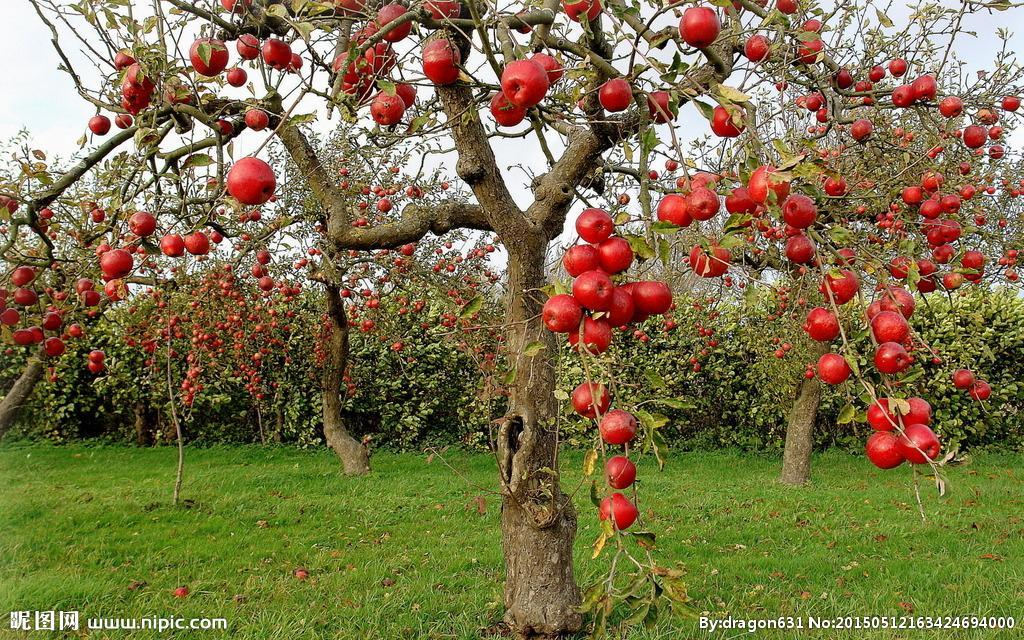apple: (224, 155, 276, 205), (501, 59, 549, 107), (117, 60, 155, 114), (420, 37, 462, 85), (678, 6, 721, 46), (747, 165, 789, 203), (566, 316, 610, 352), (575, 269, 614, 309), (543, 294, 582, 334), (189, 38, 228, 77), (599, 407, 639, 445), (868, 431, 908, 469), (899, 426, 939, 464), (572, 381, 610, 419), (629, 279, 669, 313), (604, 492, 638, 531), (369, 91, 406, 126), (574, 209, 612, 242), (490, 92, 526, 126), (259, 37, 295, 71), (709, 103, 745, 137), (597, 77, 631, 112), (563, 243, 600, 275), (603, 455, 636, 490), (784, 195, 820, 227), (694, 243, 730, 275), (99, 248, 134, 280), (601, 238, 633, 272), (804, 308, 838, 340), (874, 310, 908, 342), (824, 270, 858, 302), (659, 195, 693, 225), (883, 287, 917, 317), (687, 189, 721, 219), (867, 397, 898, 428), (902, 397, 933, 428), (817, 352, 848, 383), (875, 343, 906, 374), (784, 234, 815, 264), (785, 196, 816, 226), (159, 231, 185, 256), (128, 210, 154, 235), (184, 232, 210, 257), (88, 115, 110, 136), (114, 112, 134, 129)
